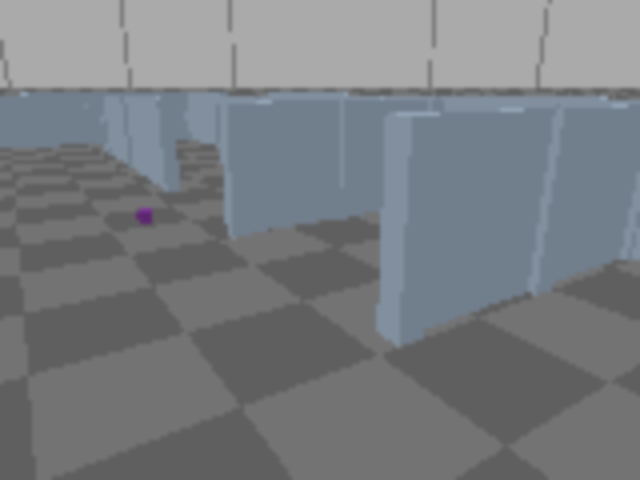puck: (135, 209, 154, 224)
